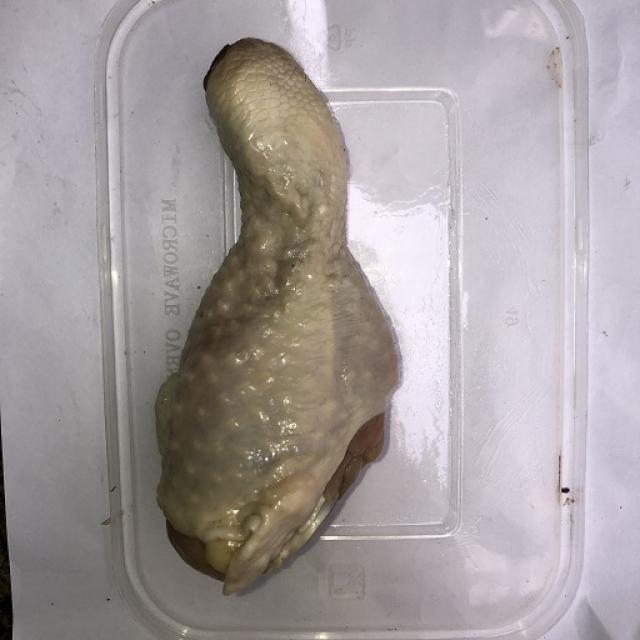chicken: (152, 36, 403, 596)
